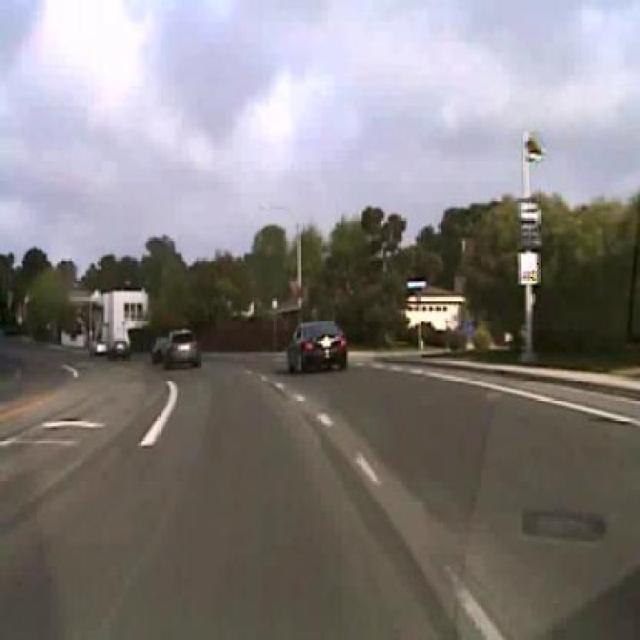speedLimitUrdbl: (517, 251, 540, 284)
